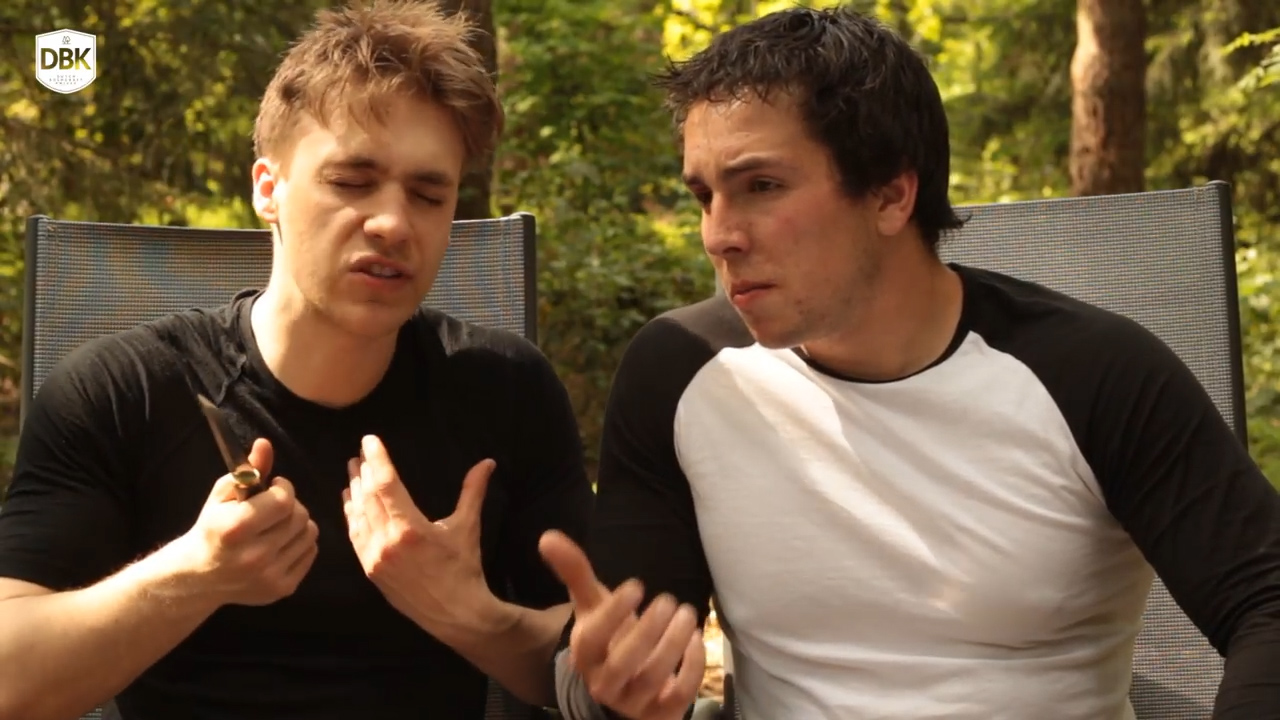knife: (185, 382, 324, 537)
